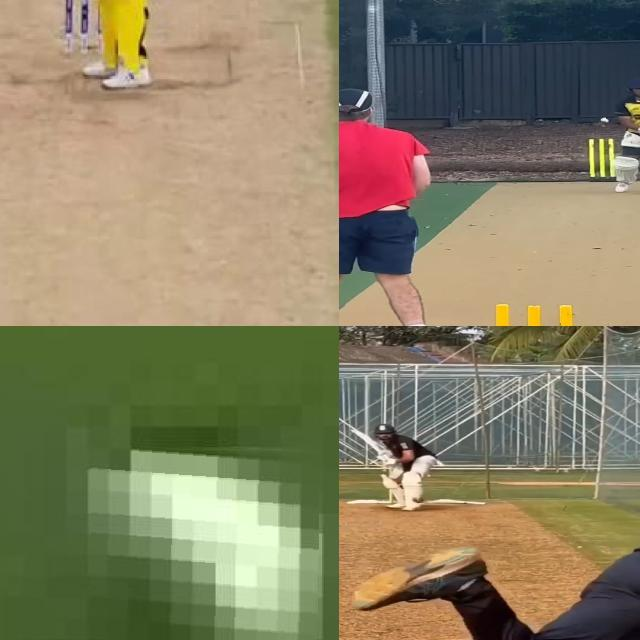Cricket ball: (91, 437, 320, 640), (410, 495, 426, 503), (599, 118, 611, 124)
Stumps: (587, 138, 617, 182)
